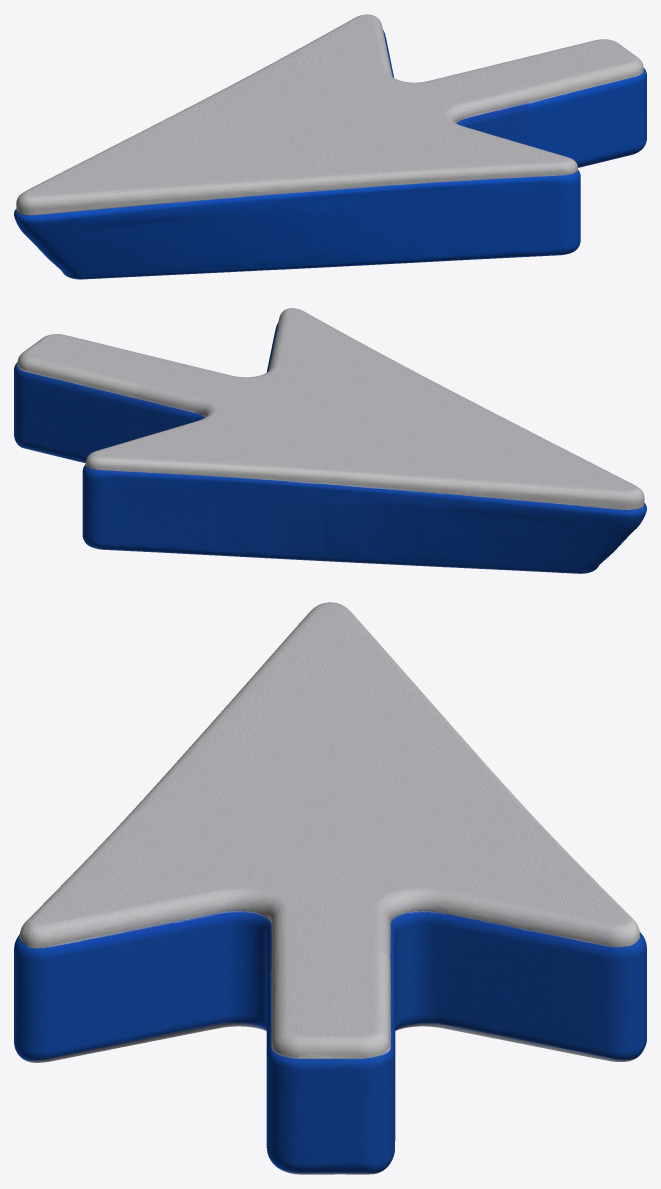
File: meshy-cursor-source.glb
The picture shows the model from 3 angles, top to bottom: view 1: azimuth 30°, elevation 25°; view 2: azimuth 150°, elevation 25°; view 3: azimuth 270°, elevation 25°; orthographic projection. The views are drawn at different scales.
Bounding box in the file's own units: 1.9 × 0.2717 × 1.14.
1 material, 1 textured.
